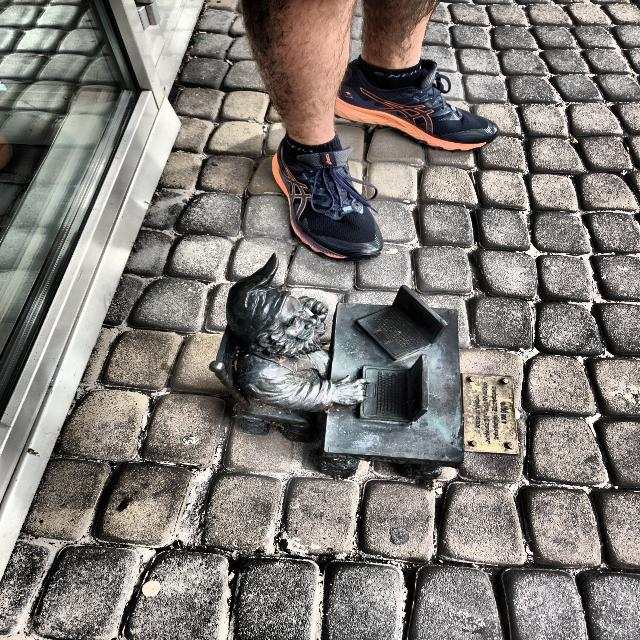WIZek: (210, 256, 463, 479)
